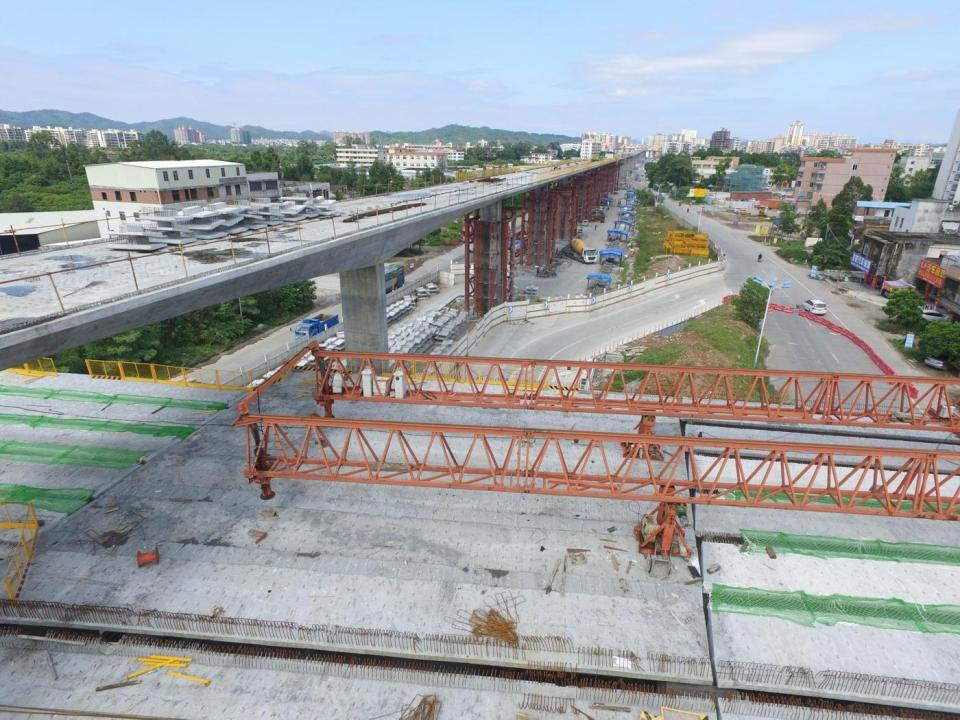bus: (364, 261, 404, 296)
car: (923, 353, 954, 372), (918, 308, 950, 326), (801, 298, 827, 314), (883, 288, 910, 302), (733, 206, 747, 214), (737, 208, 750, 214), (758, 204, 772, 209), (748, 198, 756, 202), (740, 198, 747, 202)
truck: (293, 313, 339, 341), (566, 238, 597, 260), (461, 222, 490, 242), (758, 208, 768, 216)
van: (582, 220, 589, 226)
